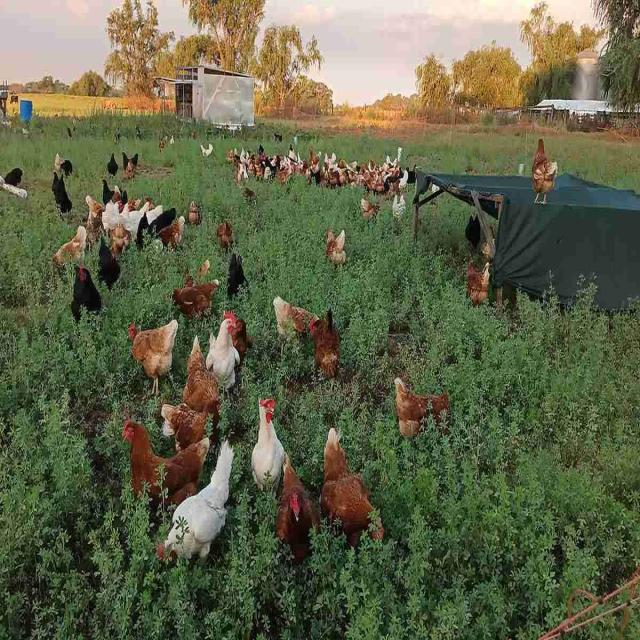Chicken: (151, 446, 237, 577), (318, 434, 391, 568), (113, 421, 210, 504), (388, 368, 471, 454), (274, 454, 324, 572), (126, 316, 180, 397), (160, 396, 227, 458), (250, 398, 285, 487), (173, 275, 224, 323), (529, 134, 560, 207), (270, 290, 307, 346), (312, 317, 344, 376), (71, 273, 107, 321), (213, 319, 240, 381), (181, 339, 210, 393), (324, 225, 354, 273), (98, 240, 126, 290), (464, 258, 491, 309), (230, 258, 259, 302), (214, 214, 245, 253), (162, 218, 190, 254), (185, 195, 206, 230), (105, 149, 119, 181)
